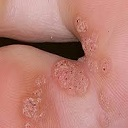Wart: (52, 58, 88, 94), (20, 82, 44, 125), (74, 15, 91, 35)
